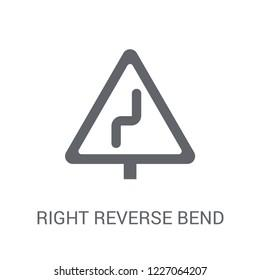Right Reverse Bend: (60, 28, 203, 188)
